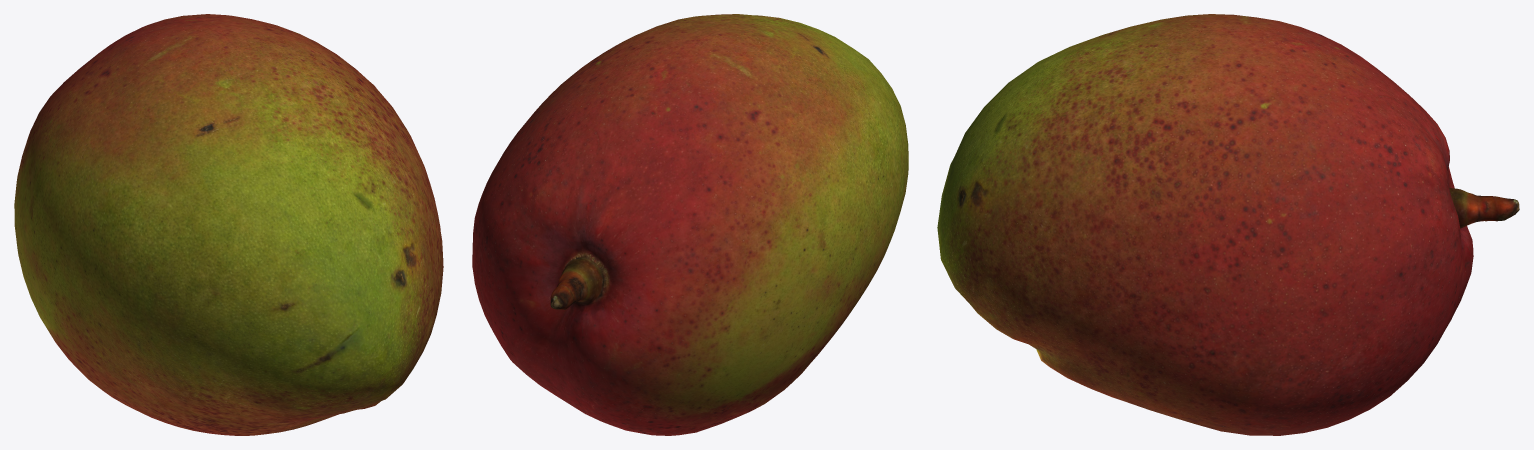
File: mango.glb
The picture shows the model from 3 angles, left to right: view 1: azimuth 30°, elevation 25°; view 2: azimuth 150°, elevation 25°; view 3: azimuth 270°, elevation 25°; orthographic projection. The views are drawn at different scales.
Parts seen in each view (by area): view 1: Object_2; view 2: Object_2; view 3: Object_2.
Part boxes in pixels (<box>): Object_2: <box>14,14,443,435</box>; Object_2: <box>472,14,908,435</box>; Object_2: <box>937,14,1519,435</box>.
Size of the model in its own units: 16.71 by 17.52 by 23.95.
Materials: 1 (1 with a texture image).
